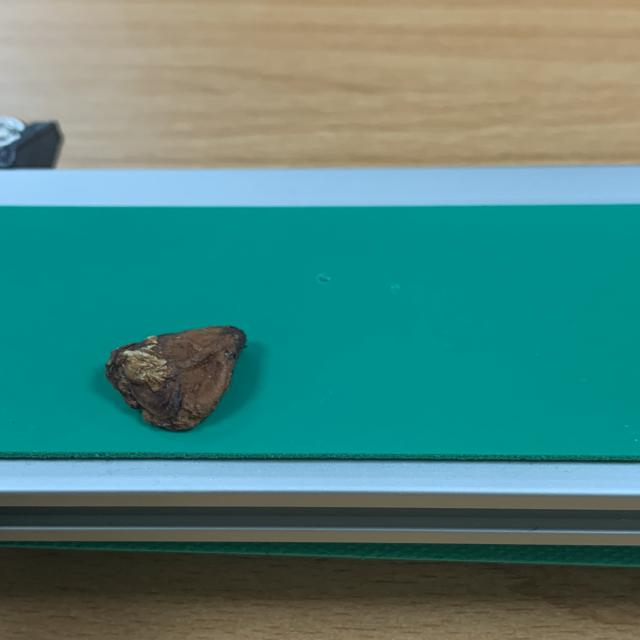Flat_cocoabeans: (63, 303, 338, 454)
